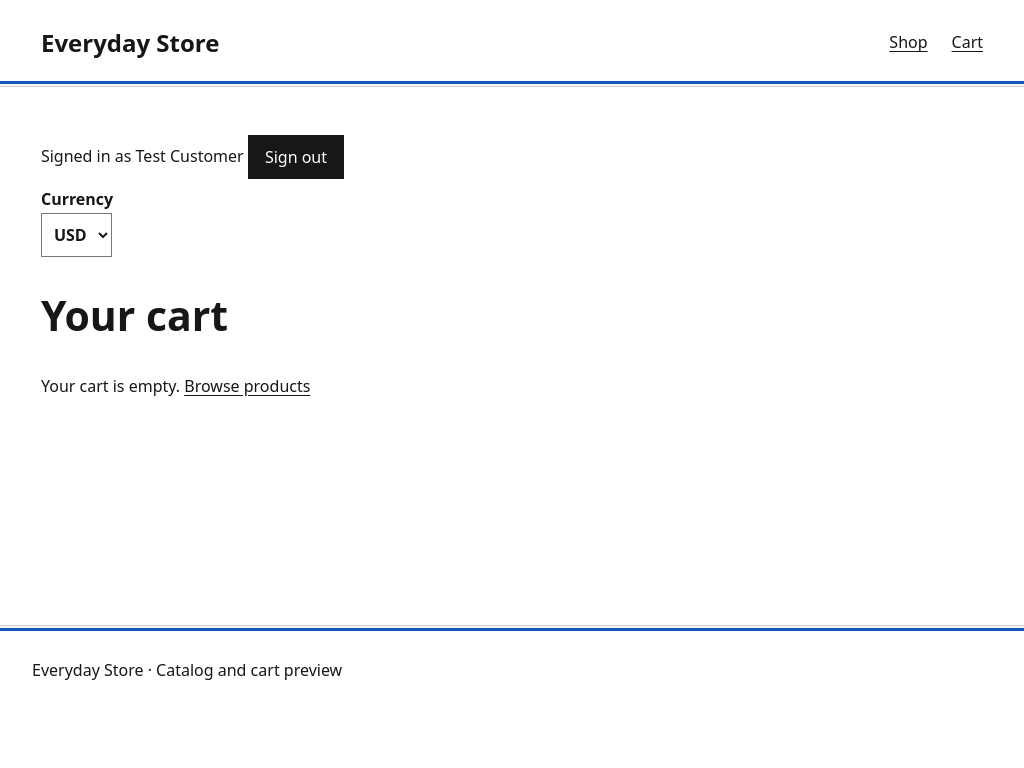
Scenario: storefront composition › clears private caches after logout and accepts the backend's empty response
Expected: the text "Your cart is empty." is shown, 41,375 -> 184,397
Step 1. Click the button "Sign out" → [296, 157], box 248,135 -> 344,179
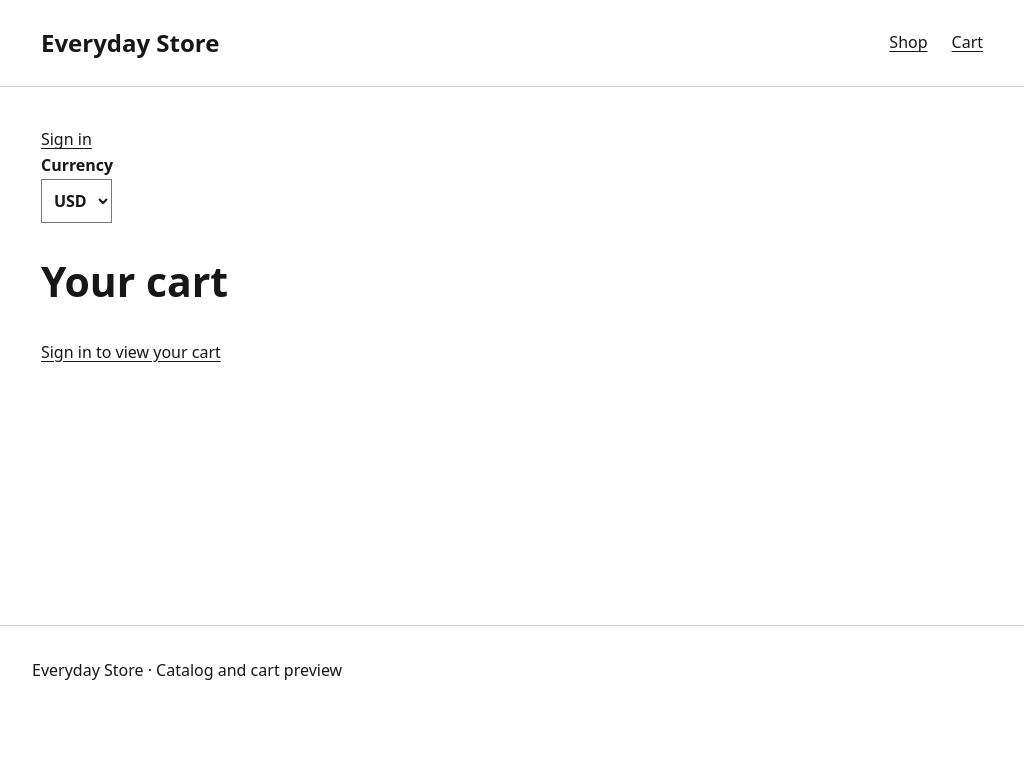
Now the link "Sign in to view your cart" is shown, box 41,341 -> 221,363
